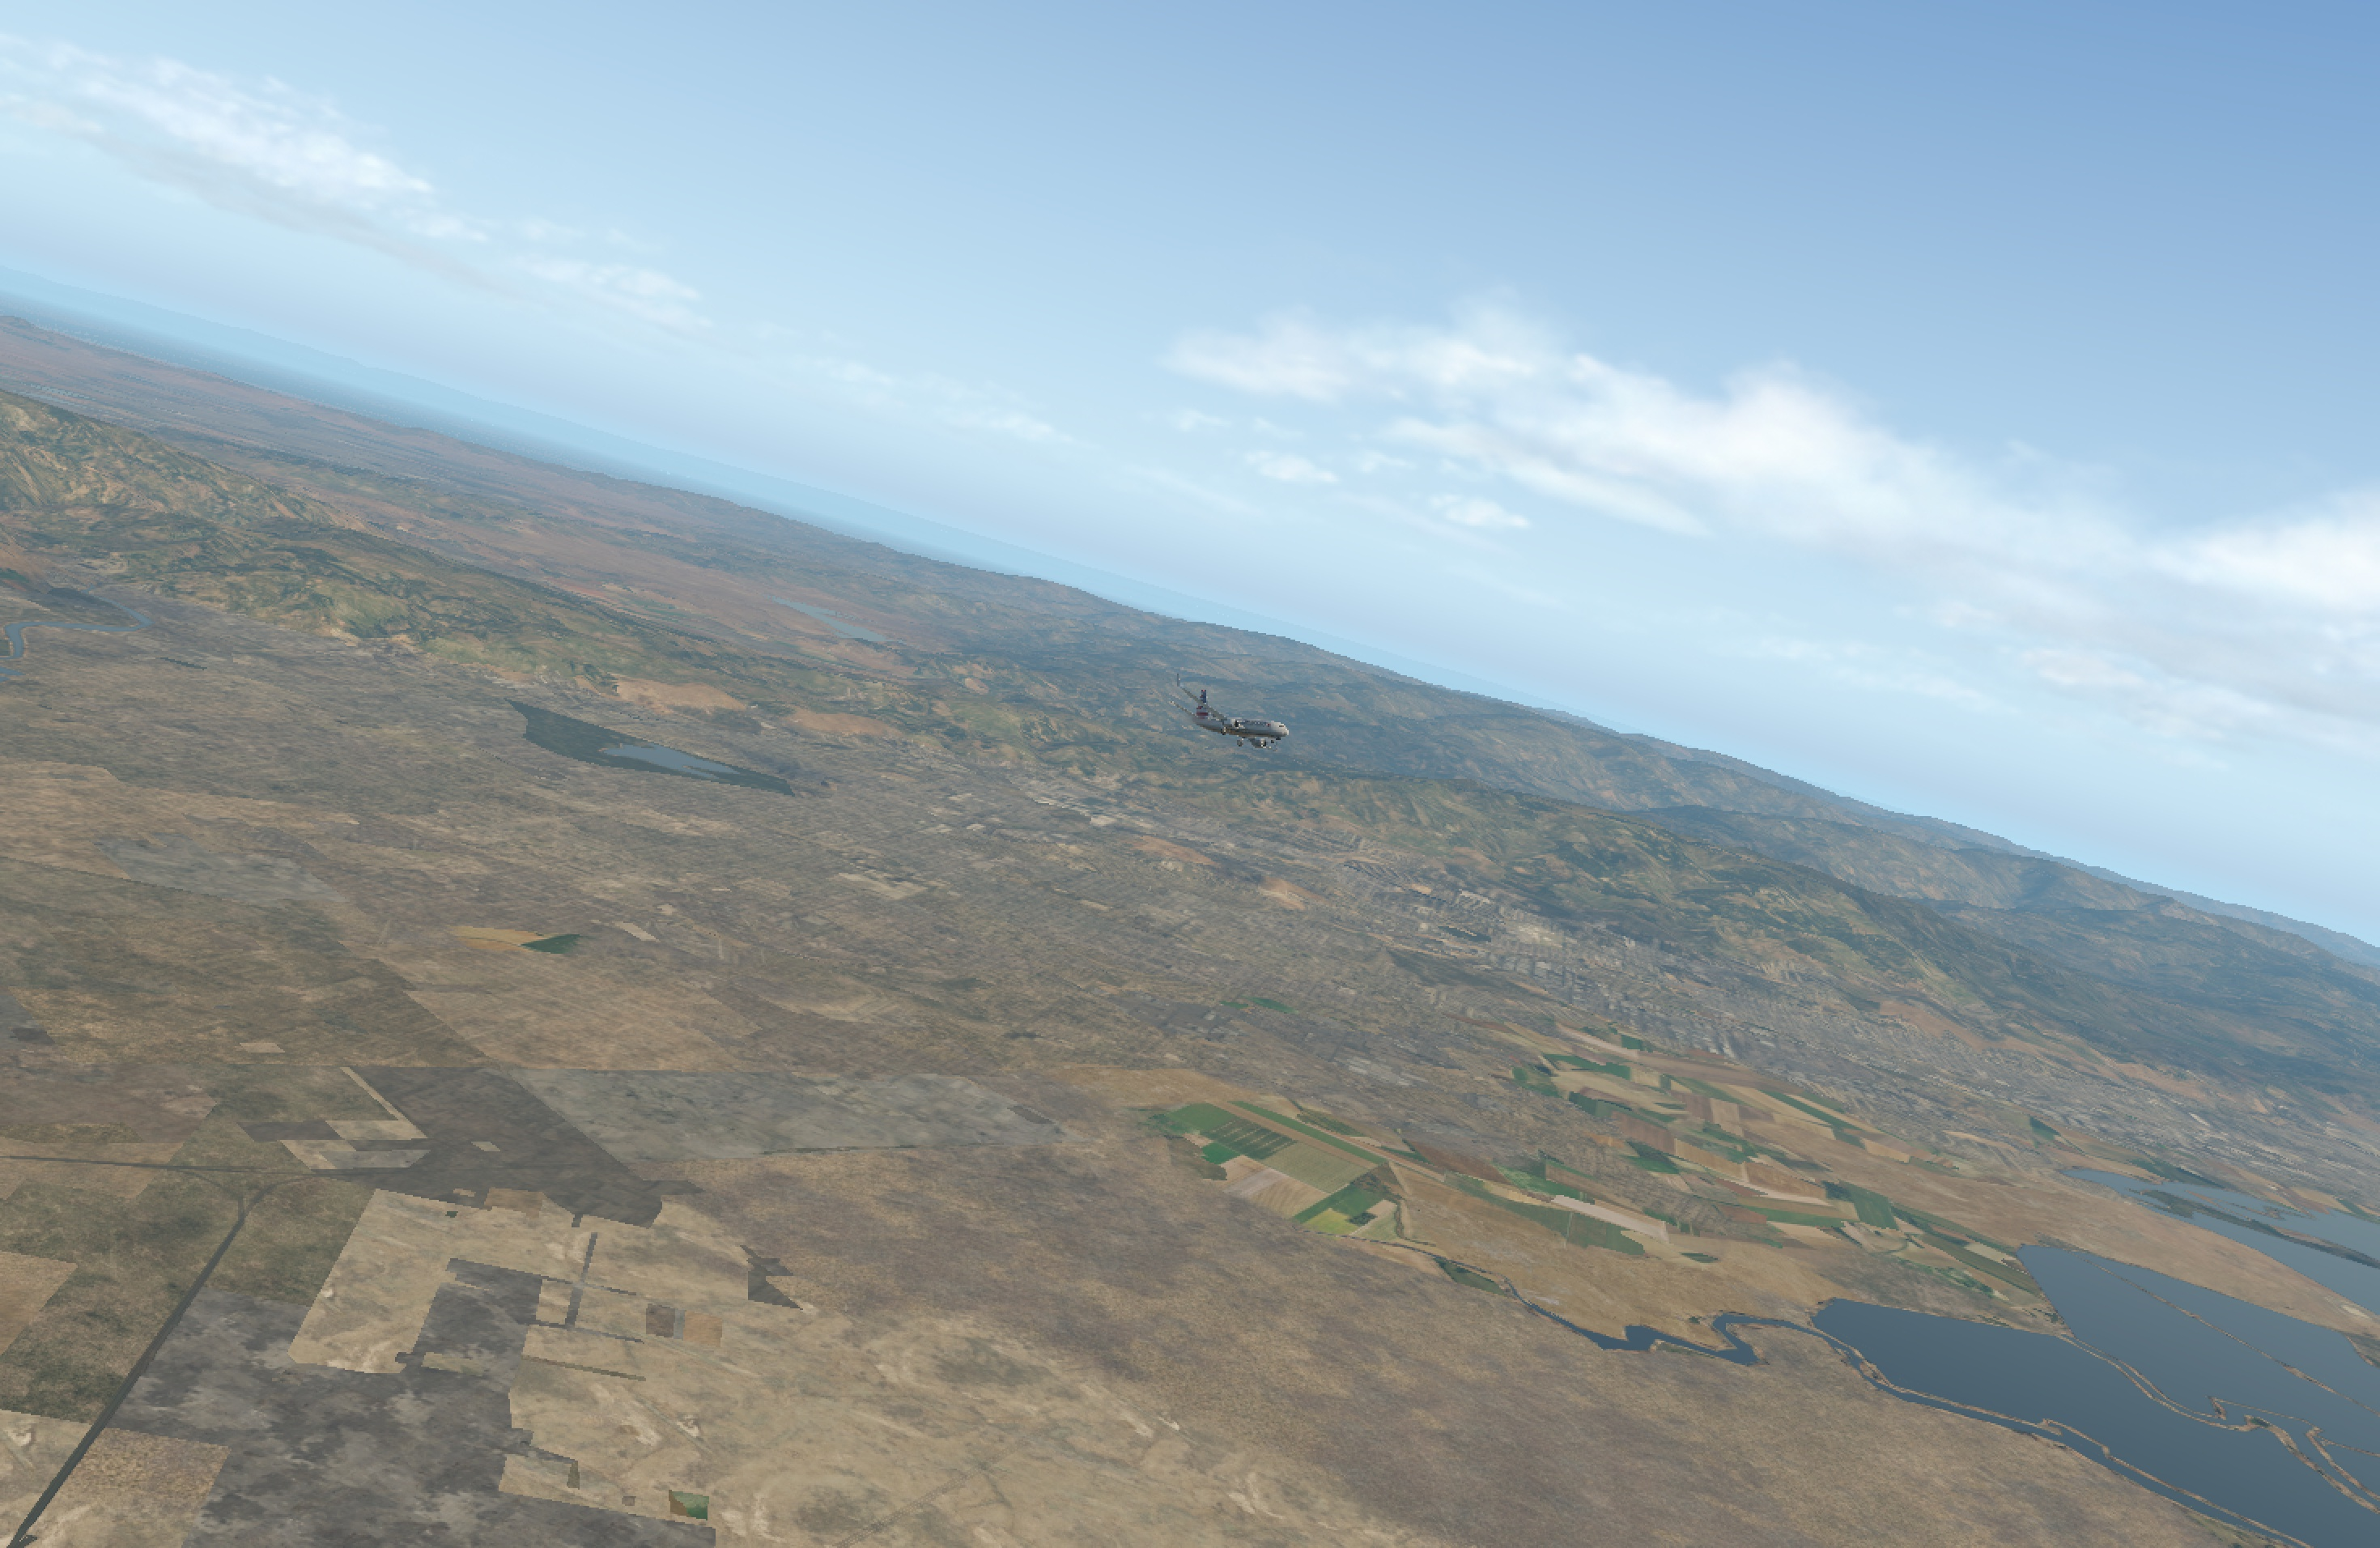aircraft: (1157, 698, 1322, 760)
